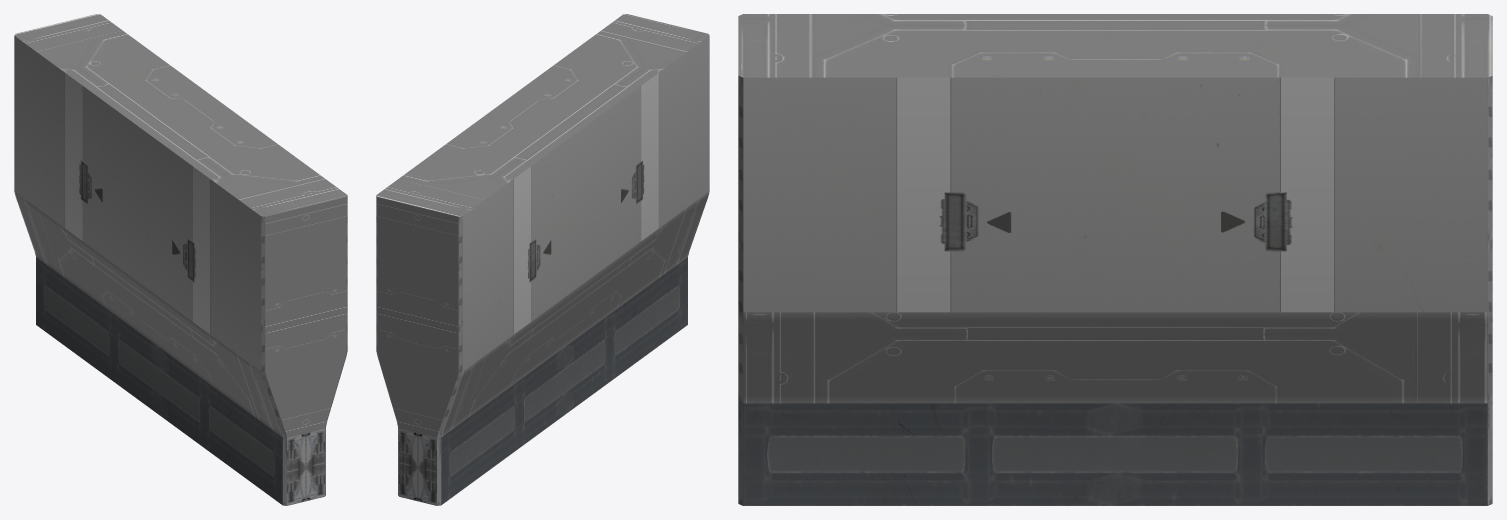
Rendered from SM_Wallup07.fbx.
3 renders of one model, left to right at view 1: azimuth 30°, elevation 25°; view 2: azimuth 150°, elevation 25°; view 3: azimuth 270°, elevation 25°, orthographic. The views are drawn at different scales.
Parts seen in each view (by area): view 1: SM_Wallup07_LOD0; view 2: SM_Wallup07_LOD0; view 3: SM_Wallup07_LOD0.
Part boxes in pixels (x1,y1,x2,y2): SM_Wallup07_LOD0: (14, 14, 347, 505); SM_Wallup07_LOD0: (376, 14, 709, 505); SM_Wallup07_LOD0: (738, 14, 1492, 505).
Bounding box in the file's own units: 80 × 400 × 260.
Materials: 3 (3 with a texture image).
